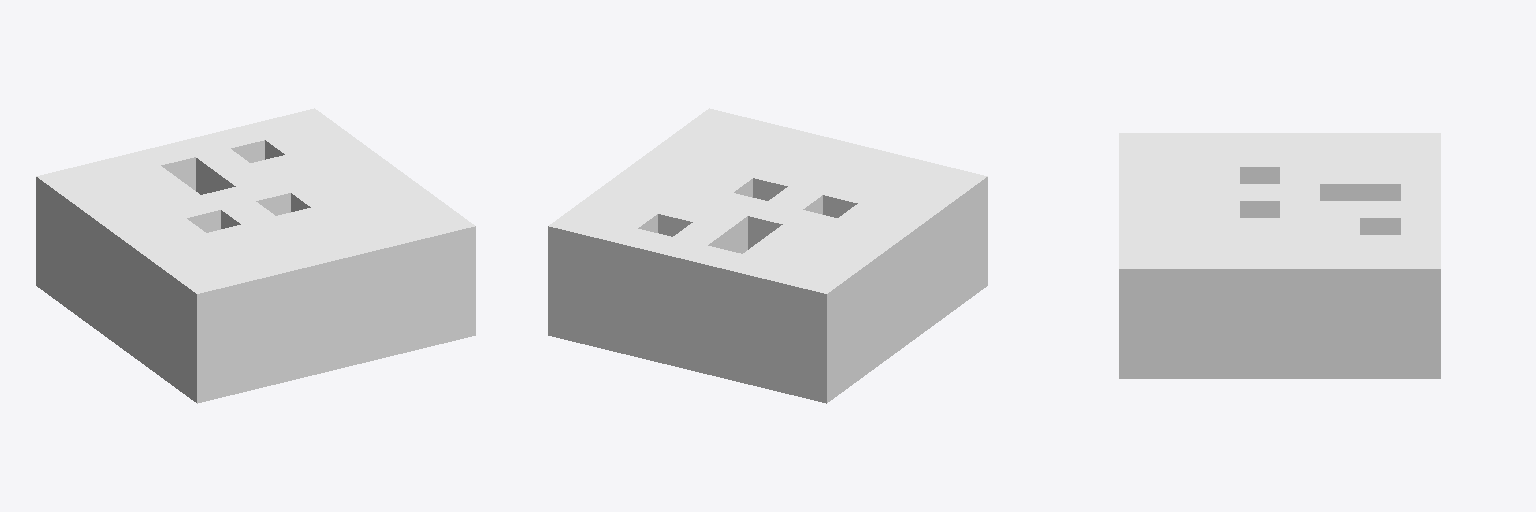
File: Lava17.obj
3 views of the same model, side by side, from view 1: azimuth 30°, elevation 25°; view 2: azimuth 150°, elevation 25°; view 3: azimuth 270°, elevation 25° (orthographic).
Parts seen in each view (by area): view 1: object 1; view 2: object 1; view 3: object 1.
Boxes of the visible parts, box(x1,y1,x2,y2) form: object 1: box(36, 108, 475, 403); object 1: box(548, 108, 987, 403); object 1: box(1119, 133, 1440, 378).
Size of the model in its own units: 0.8 by 0.3 by 0.8.